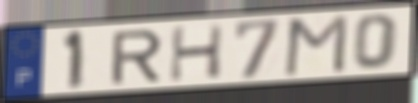0: (350, 11, 400, 72)
1: (59, 28, 87, 93)
7: (231, 17, 282, 82)
H: (167, 22, 226, 84)
M: (281, 12, 351, 78)
R: (108, 28, 165, 87)
